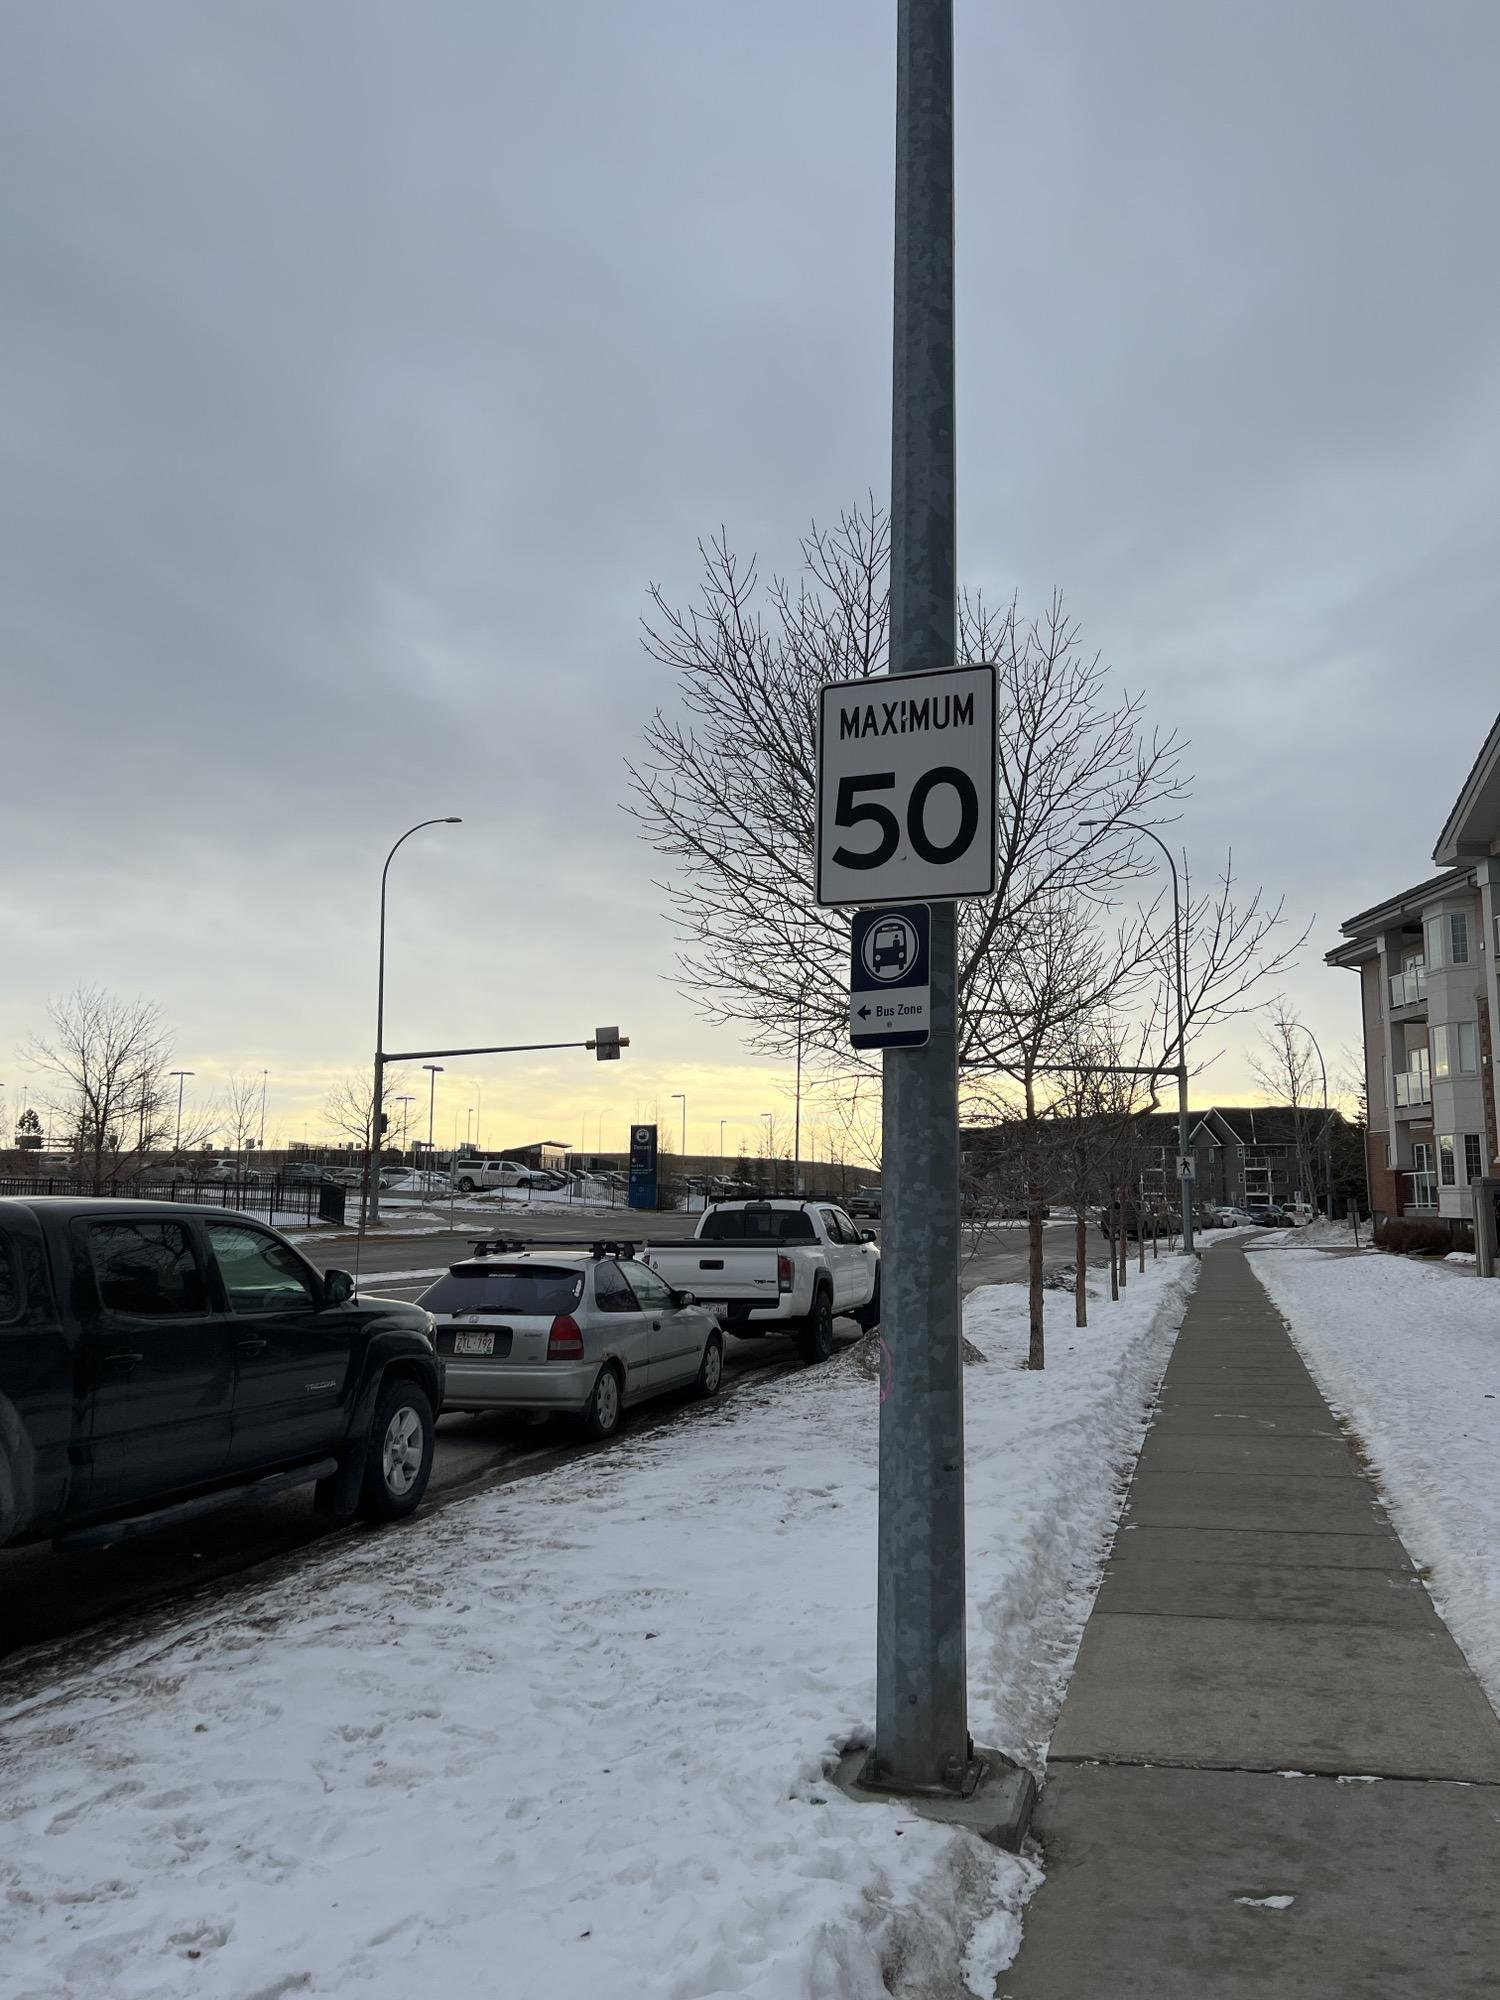car: (2, 1148, 455, 1576), (407, 1198, 767, 1457), (616, 1169, 942, 1373)
traffic sign: (763, 644, 1065, 1126)
